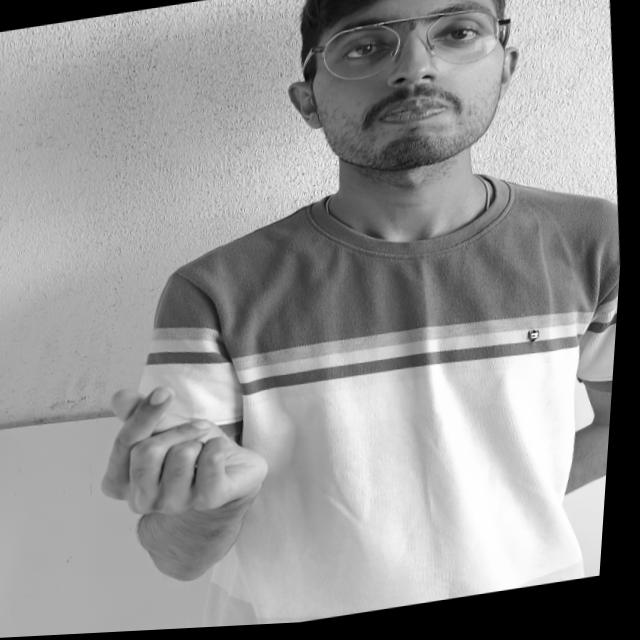Grattitude: (70, 340, 326, 578)
